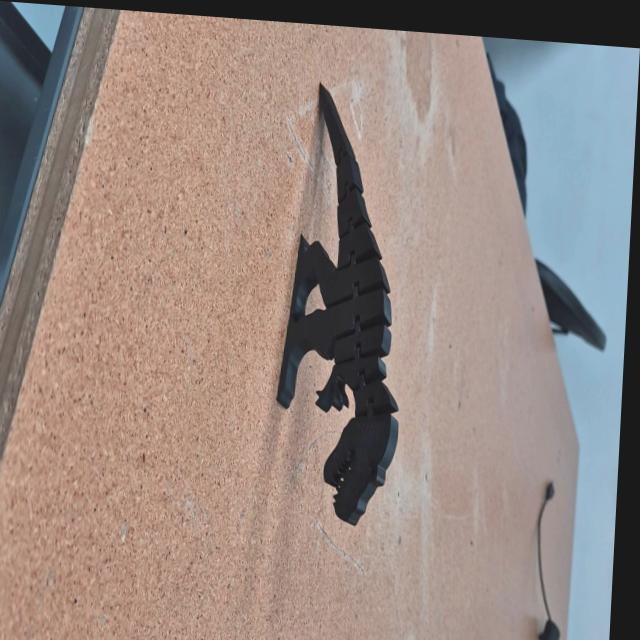dino: (269, 76, 417, 530)
